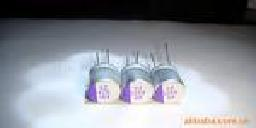Electrolytic-Capacitor: (150, 40, 191, 105), (120, 47, 155, 104), (88, 46, 121, 101)
